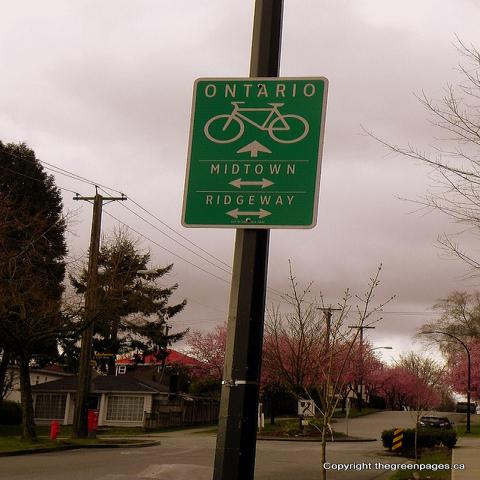car: (418, 416, 456, 430), (456, 401, 476, 414)
